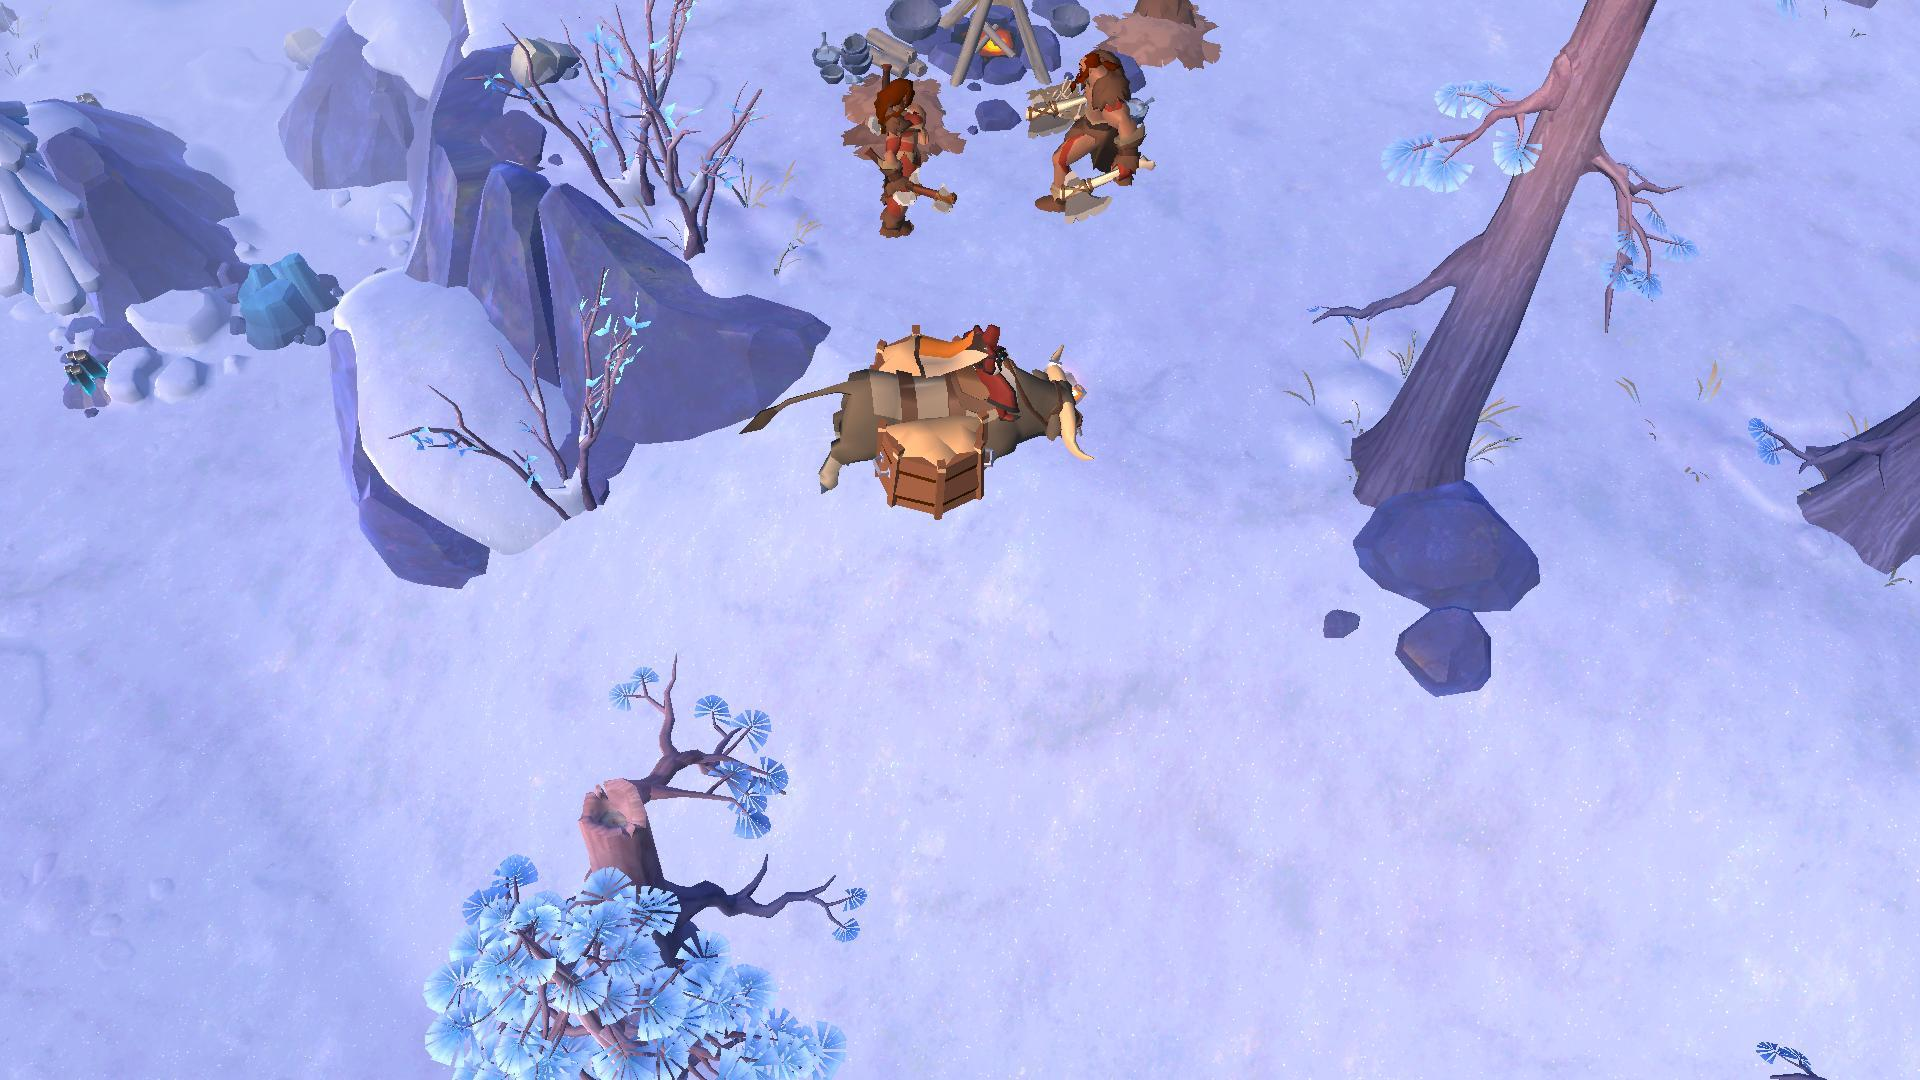enemy_factionKeeper: (1029, 45, 1149, 212), (872, 74, 947, 237)
ore_t4: (62, 344, 103, 406)
rock_t4: (216, 244, 355, 360)
